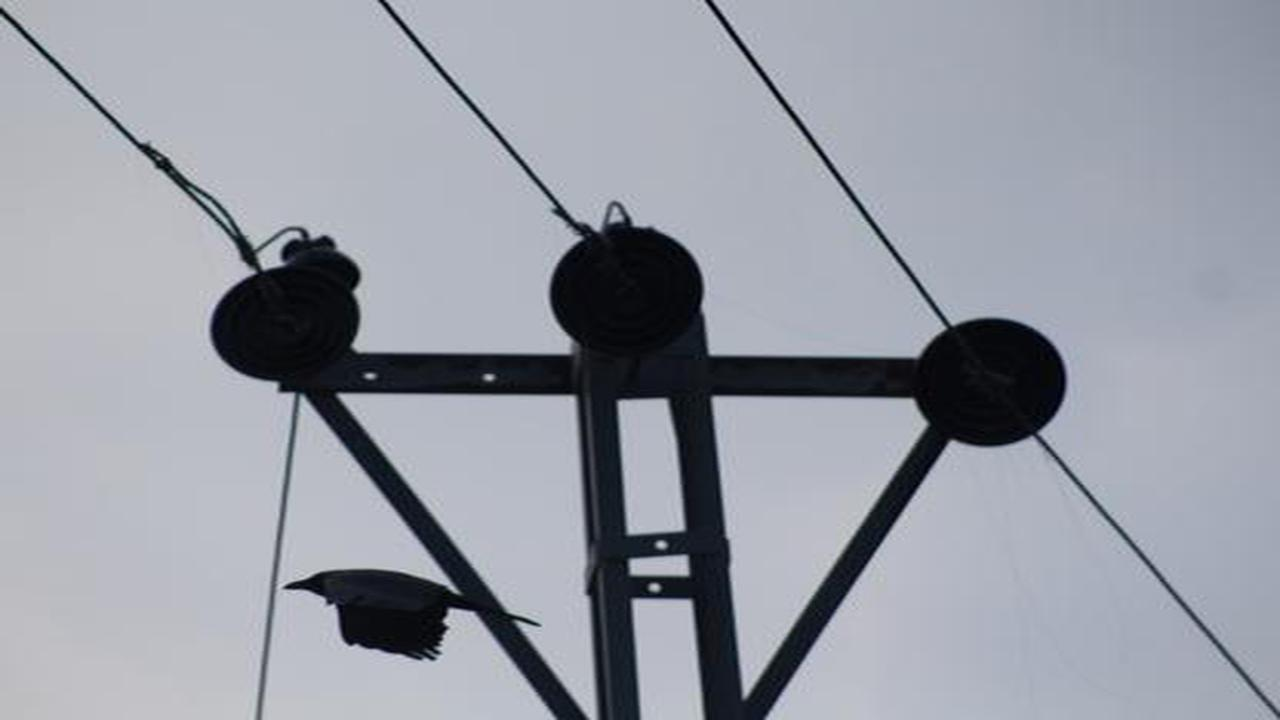insulator_disc: (545, 217, 709, 372), (913, 310, 1073, 450), (204, 261, 366, 385)
